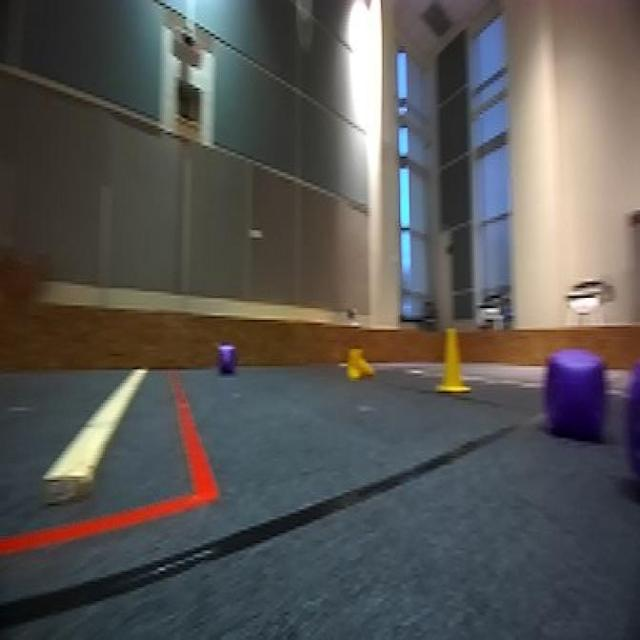frc_cone: (434, 325, 468, 398), (343, 346, 374, 381)
frc_cube: (540, 333, 616, 442), (214, 342, 237, 380)
